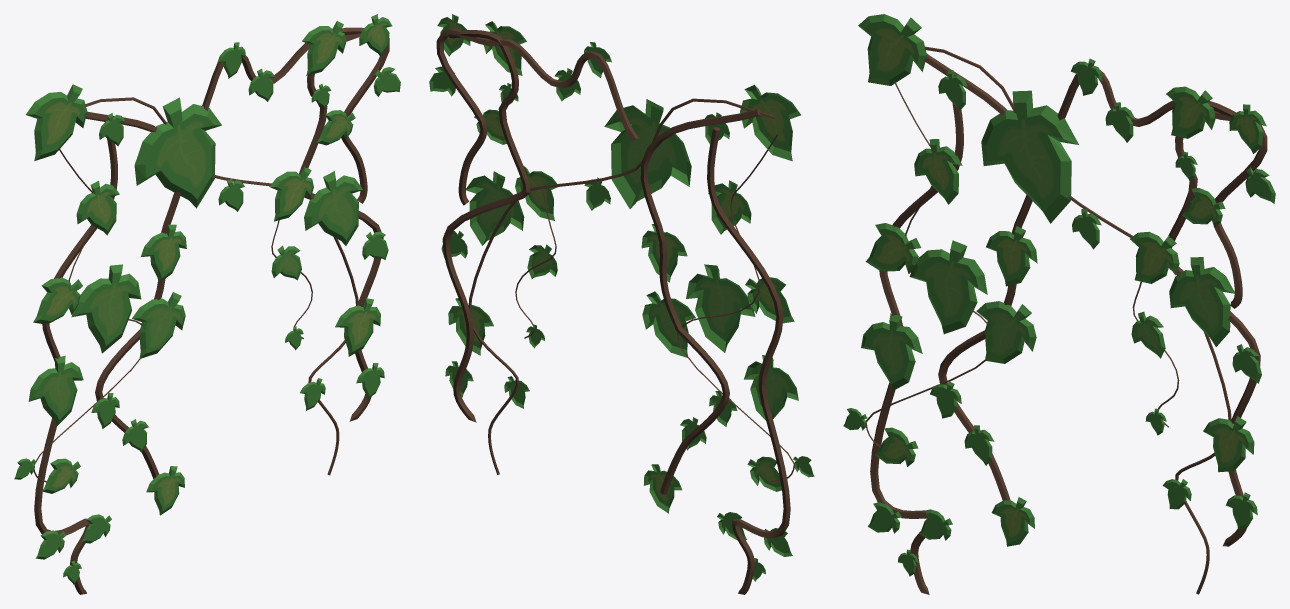
File: leaf.FBX
3 renders of one model, left to right at view 1: azimuth 30°, elevation 25°; view 2: azimuth 150°, elevation 25°; view 3: azimuth 330°, elevation 25°, orthographic. The views are drawn at different scales.
Parts seen in each view (by area): view 1: Plane001; view 2: Plane001; view 3: Plane001.
Part boxes in pixels (x1=…): Plane001: x1=14, y1=14, x2=400, y2=594; Plane001: x1=429, y1=14, x2=814, y2=594; Plane001: x1=843, y1=14, x2=1275, y2=594.
Size of the model in its own units: 66.68 by 85.12 by 1.68.
